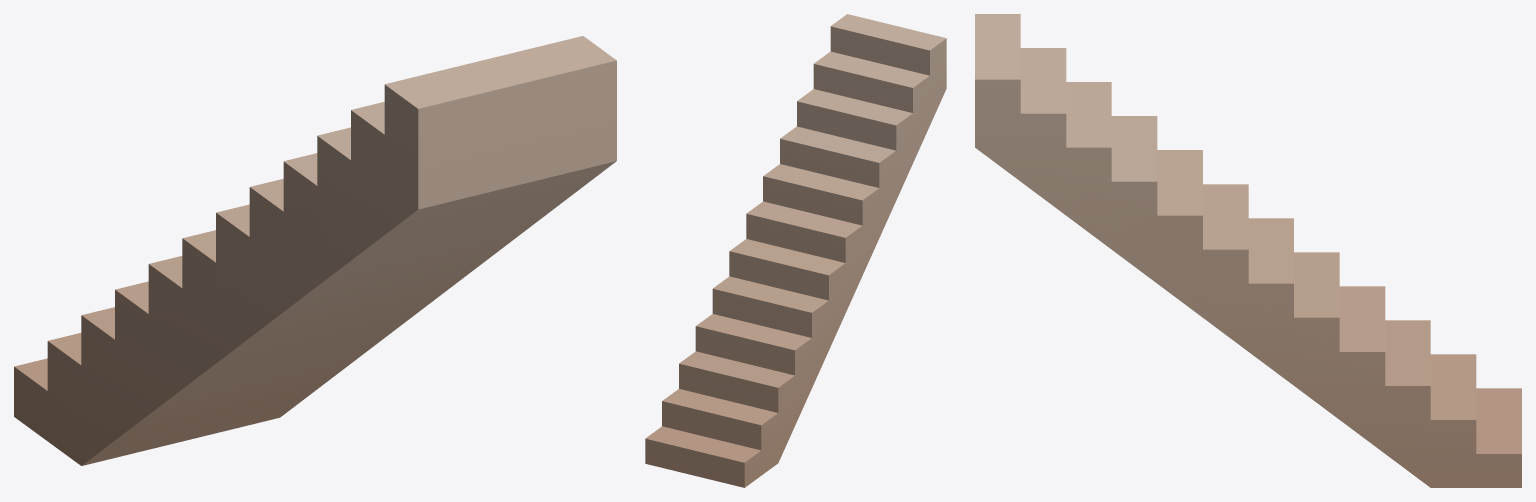
The model's file is stairs-stone.glb.
3 renders of one model, left to right at view 1: azimuth 30°, elevation 25°; view 2: azimuth 150°, elevation 25°; view 3: azimuth 270°, elevation 25°, orthographic. The views are drawn at different scales.
Visible parts, largest first — view 1: stairs-stone; view 2: stairs-stone; view 3: stairs-stone.
Boxes of the visible parts, box(x1,y1,x2,y2) form: stairs-stone: box(14, 36, 616, 465); stairs-stone: box(645, 14, 946, 487); stairs-stone: box(975, 14, 1521, 487).
Bounding box in the file's own units: 0.2325 × 0.675 × 0.819.
